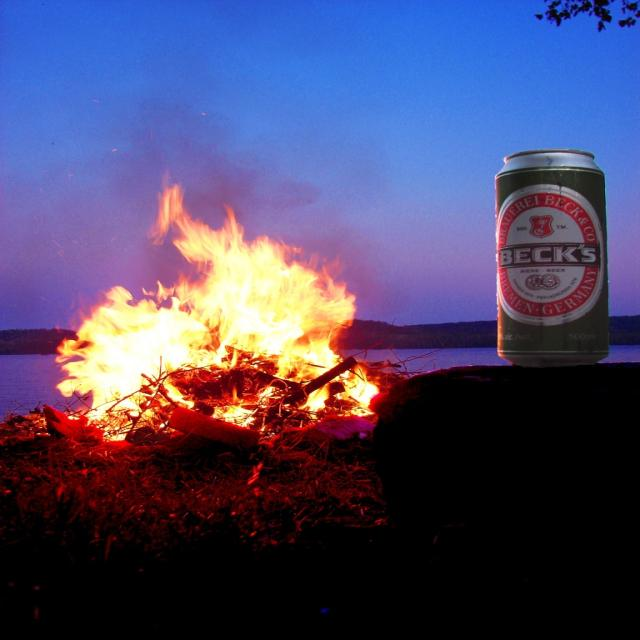becks: (500, 184, 607, 328)
